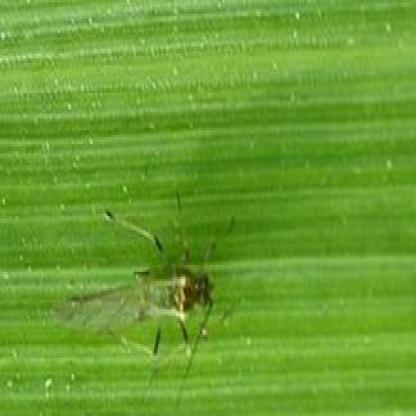aphid: (50, 209, 224, 390)
